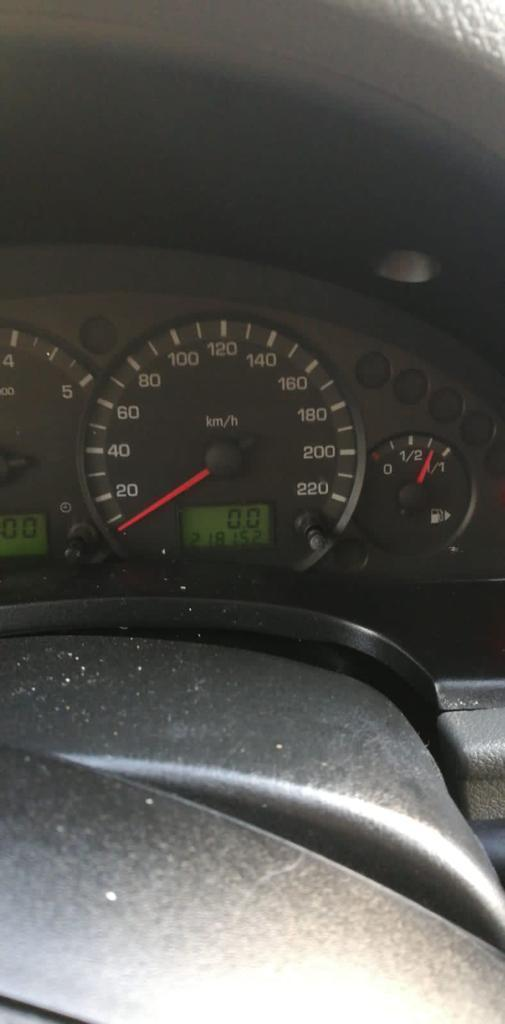,: (241, 522, 245, 528)
0: (227, 506, 241, 528), (246, 506, 260, 527)
1: (206, 530, 213, 547), (232, 530, 237, 545)
2: (189, 530, 201, 547), (251, 530, 263, 545)
5: (239, 530, 249, 545)
8: (215, 529, 226, 547)
odometer: (177, 502, 275, 548)
